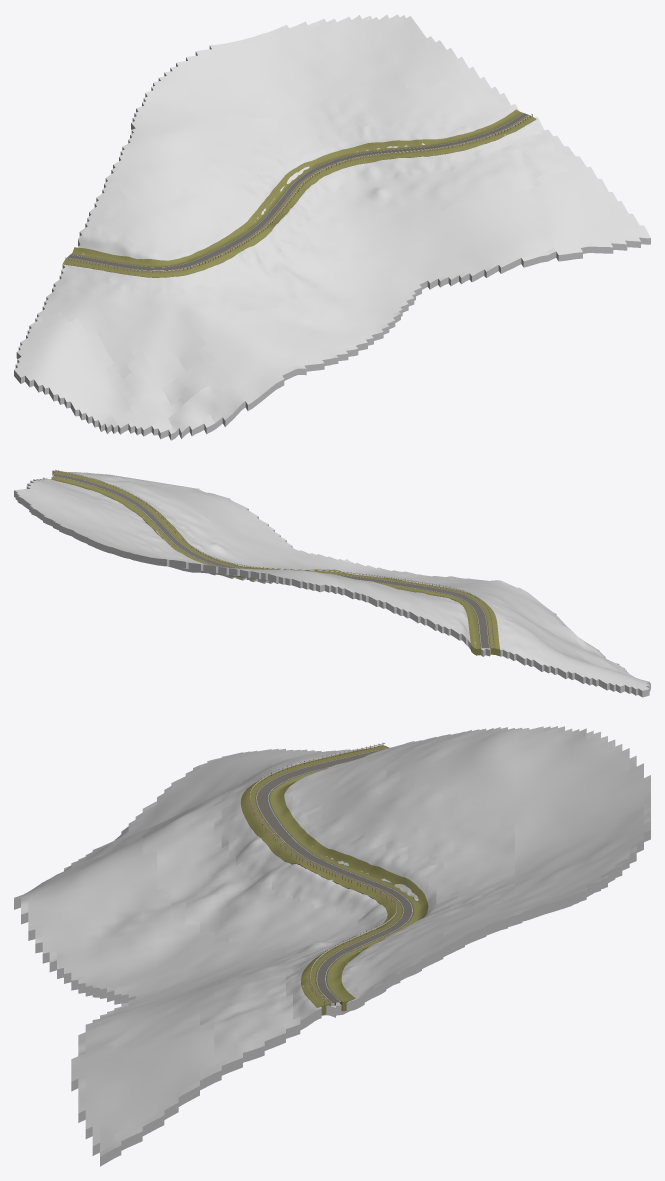
The model's file is conz_15.glb.
3 views of the same model, one above another, from view 1: azimuth 30°, elevation 25°; view 2: azimuth 150°, elevation 25°; view 3: azimuth 270°, elevation 25° (orthographic). The views are drawn at different scales.
Parts seen in each view (by area): view 1: terrain15, verge15R, verge15L, road15; view 2: terrain15, road15, verge15L, verge15R, beam15_11040, posts15_11040; view 3: terrain15, verge15L, road15, verge15R, posts15_11040, beam15_11040.
Boxes of the visible parts, x1=… form: terrain15: x1=14, y1=14, x2=650, y2=440; verge15R: x1=71, y1=109, x2=522, y2=266; verge15L: x1=62, y1=115, x2=536, y2=277; road15: x1=67, y1=113, x2=528, y2=270; terrain15: x1=14, y1=470, x2=650, y2=697; road15: x1=53, y1=473, x2=490, y2=648; verge15L: x1=54, y1=471, x2=500, y2=656; verge15R: x1=51, y1=476, x2=480, y2=655; beam15_11040: x1=55, y1=470, x2=493, y2=645; posts15_11040: x1=55, y1=469, x2=494, y2=647; terrain15: x1=14, y1=726, x2=650, y2=1166; verge15L: x1=240, y1=745, x2=401, y2=1015; road15: x1=255, y1=747, x2=413, y2=1003; verge15R: x1=270, y1=769, x2=428, y2=1011; posts15_11040: x1=248, y1=743, x2=396, y2=1006; beam15_11040: x1=250, y1=743, x2=396, y2=1002.
Bounding box in the file's own units: 290 × 93.61 × 178.
